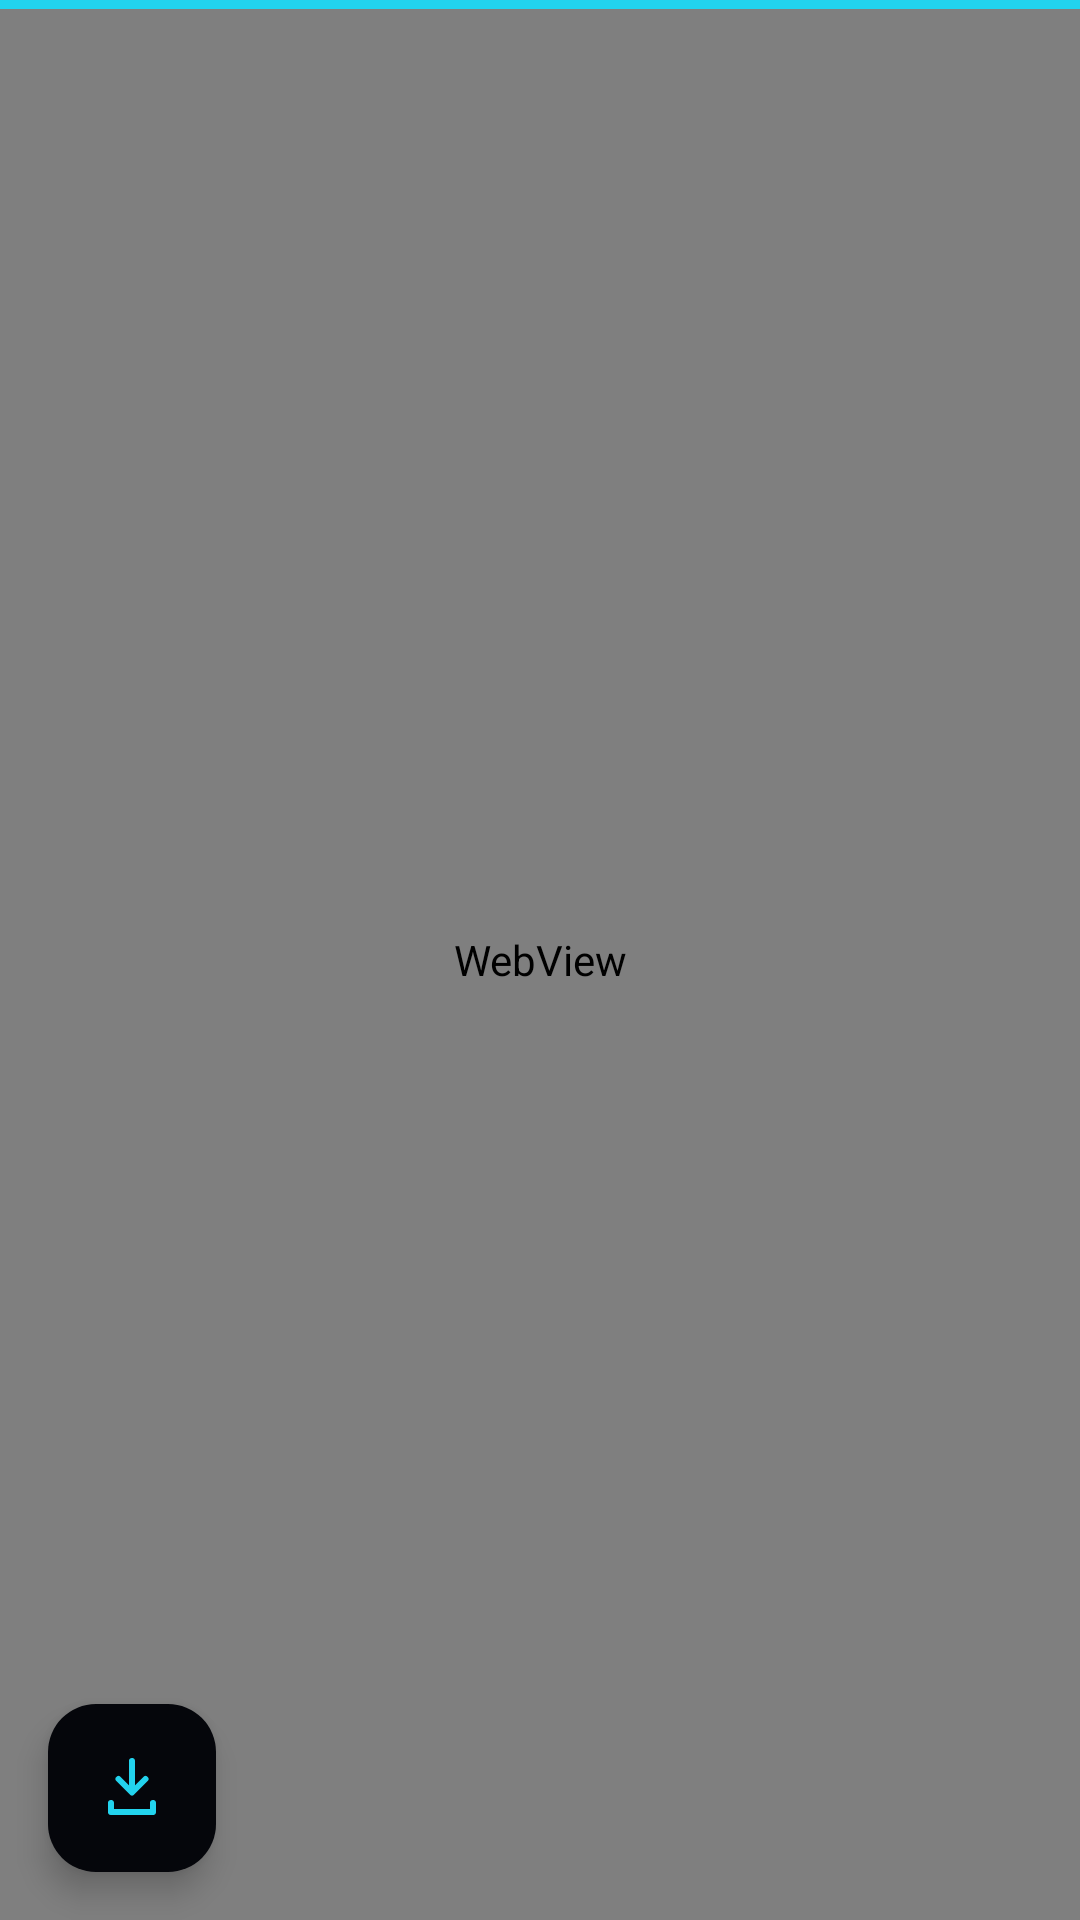

Icons on this 1080px x 1920px Android screen, each with the point to tap as (x=x, y=y):
imports: (x=132, y=1788)
